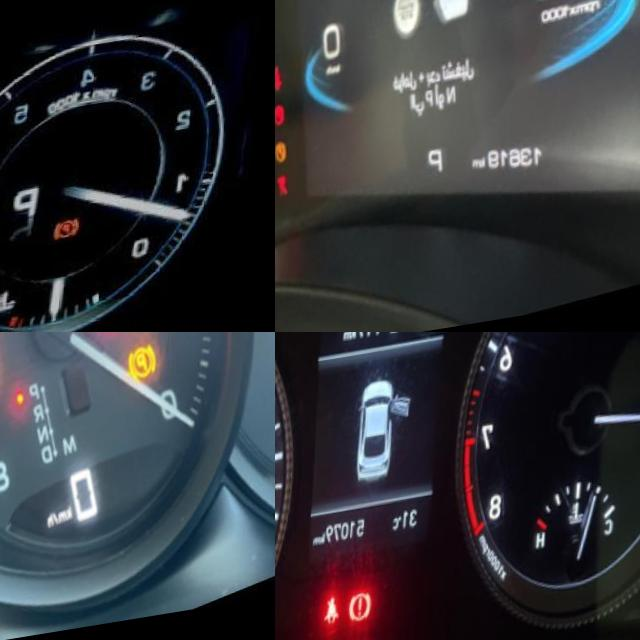Engine cooling system: (7, 293, 36, 325)
Low fuel level: (275, 173, 282, 204)
Seat Belt: (329, 601, 349, 637)
